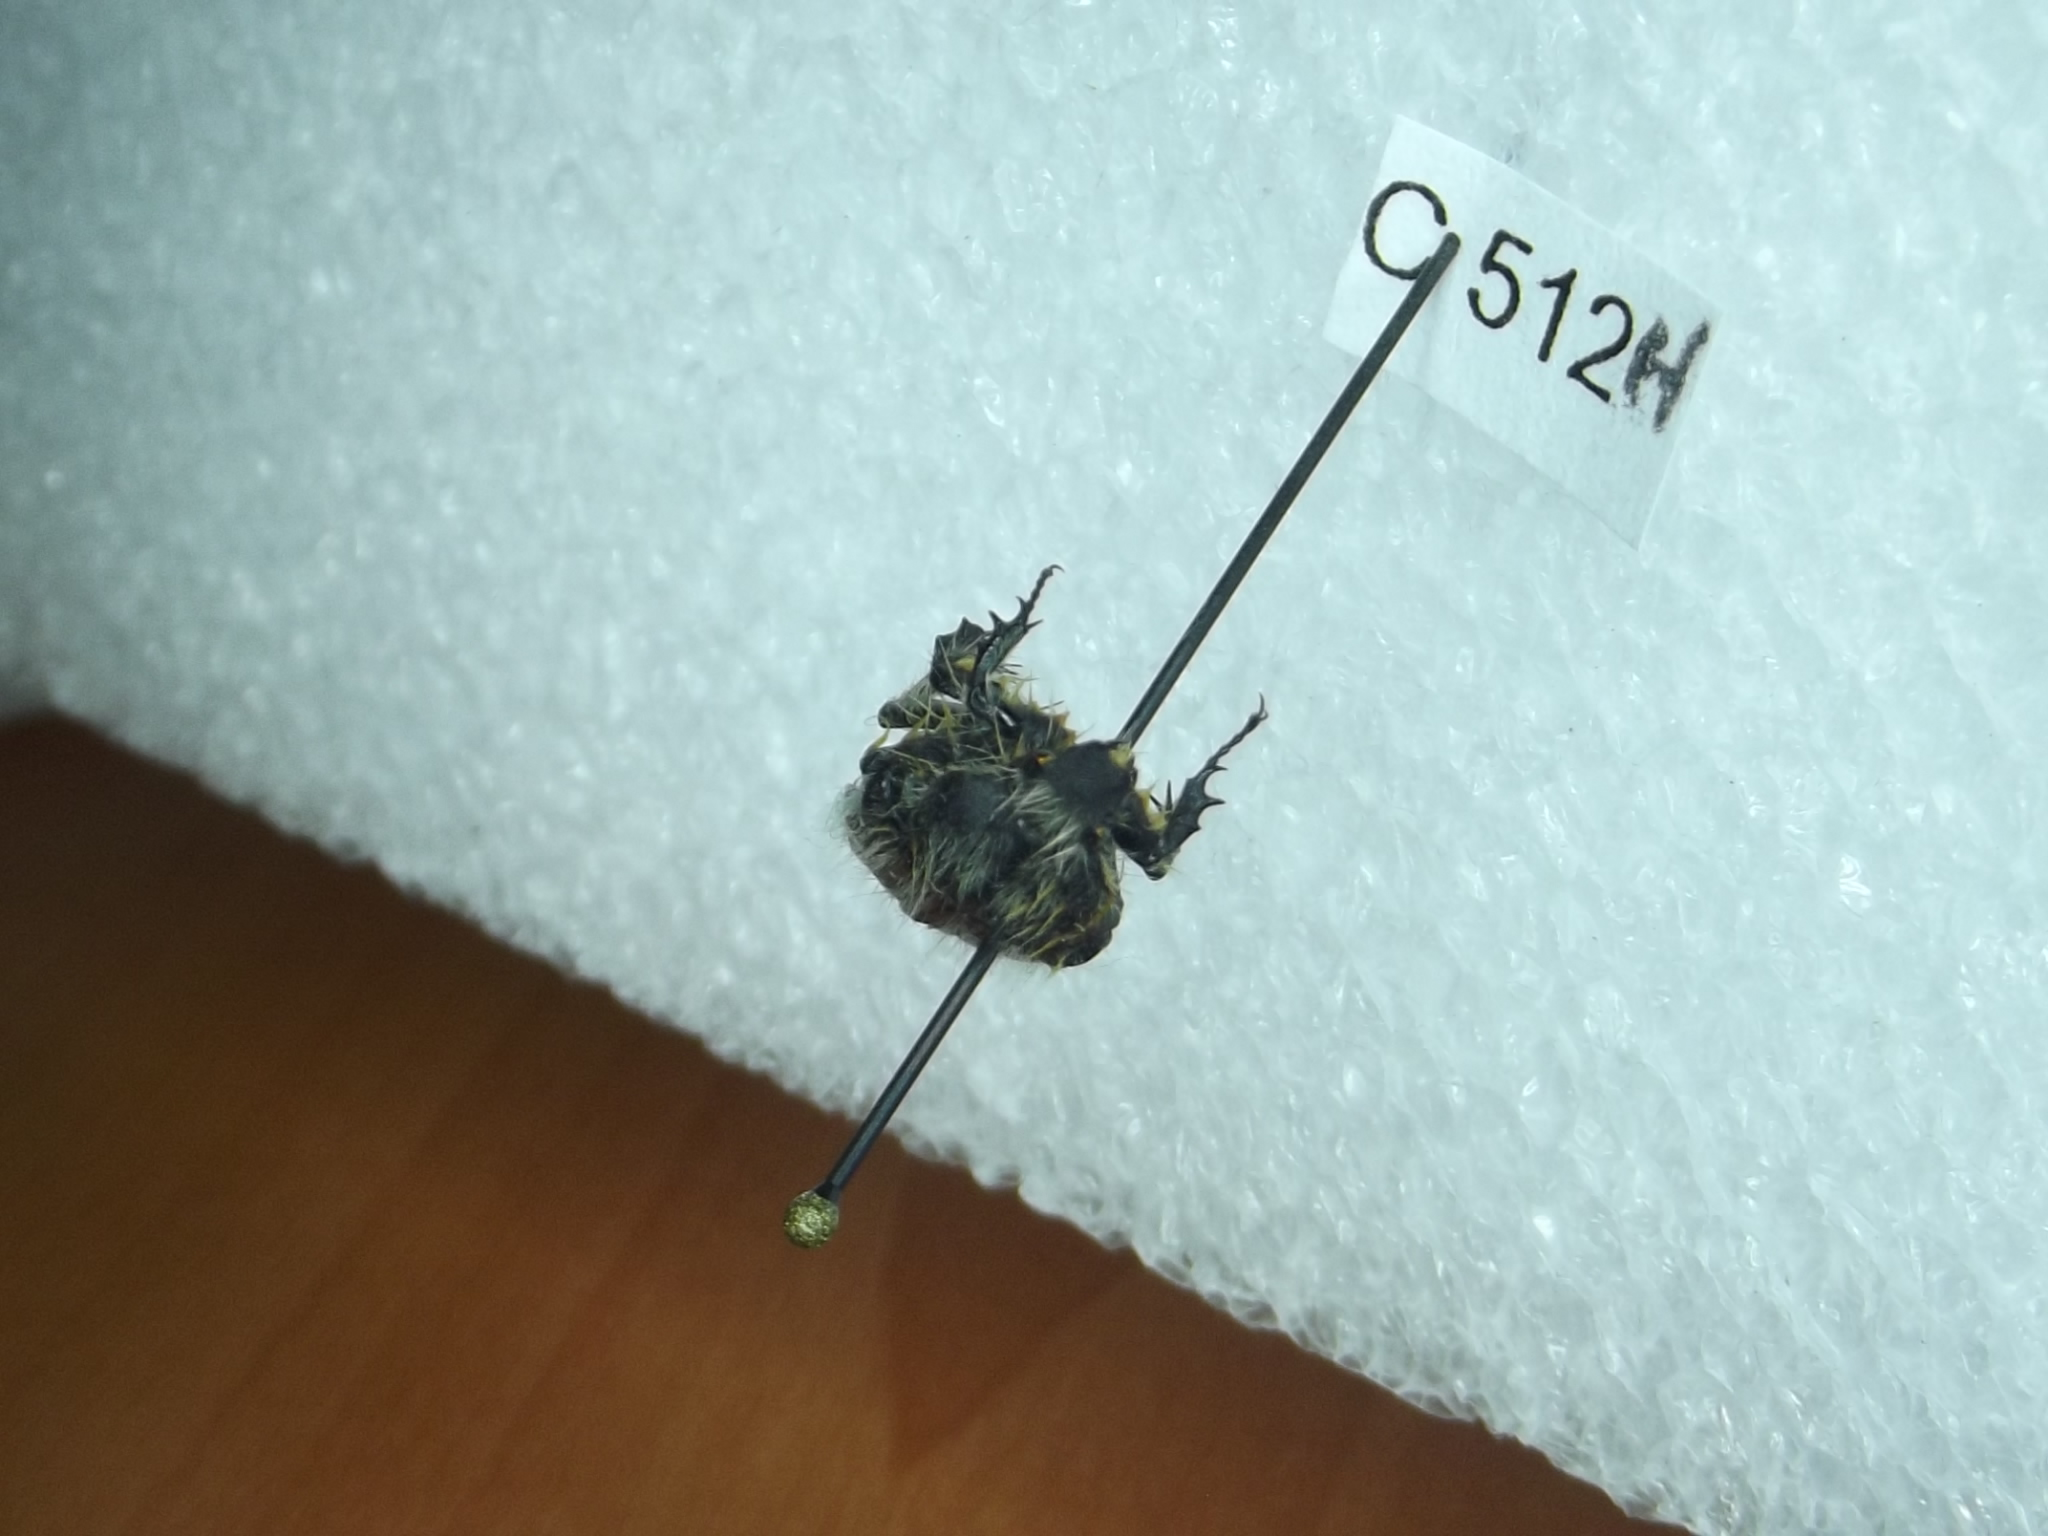Tropinota_senicula: (819, 549, 1317, 963)
